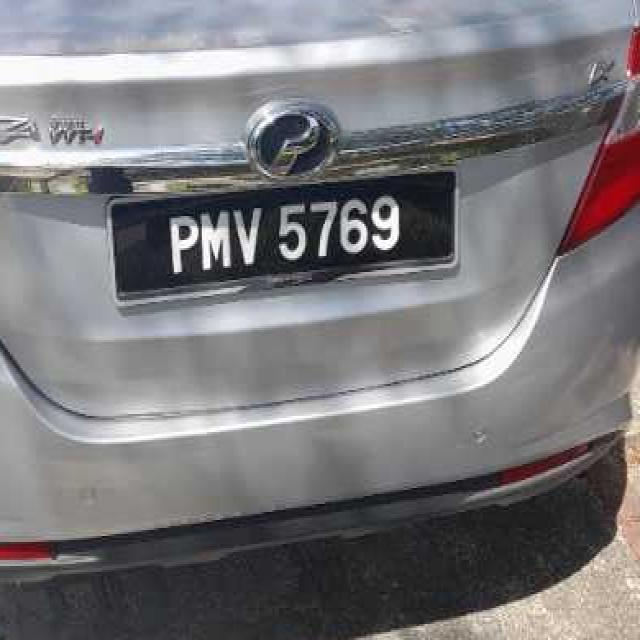car-plate: (99, 166, 473, 318)
